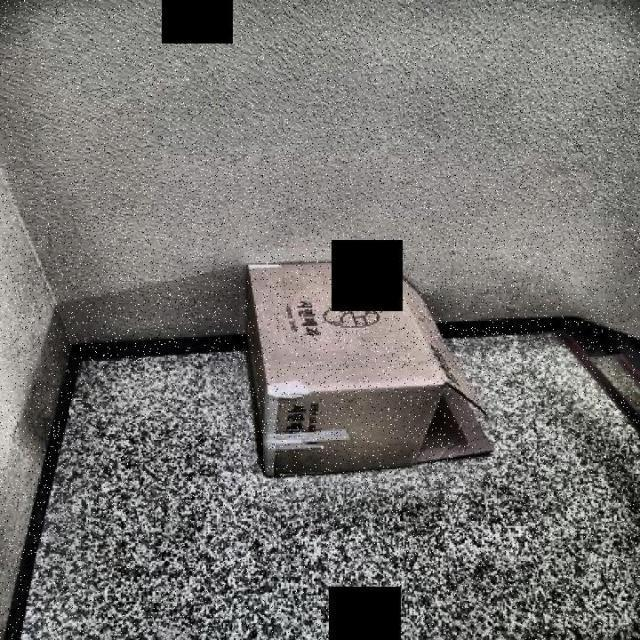box: (239, 248, 506, 481)
